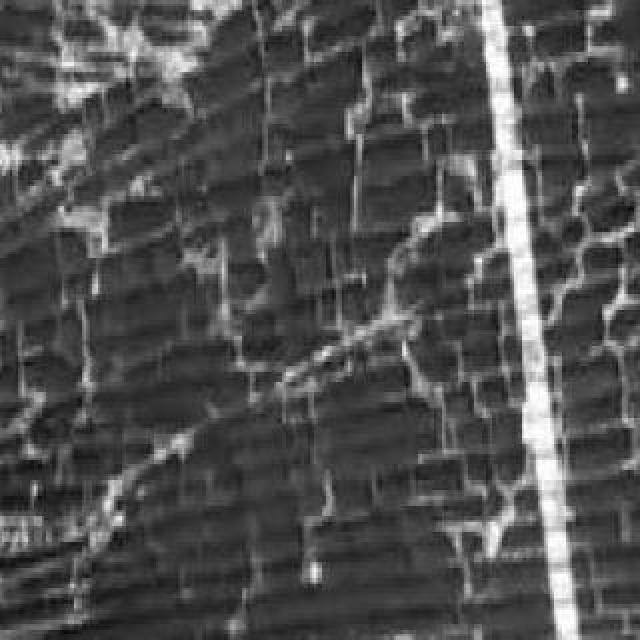Physical-damage: (432, 4, 616, 634)
